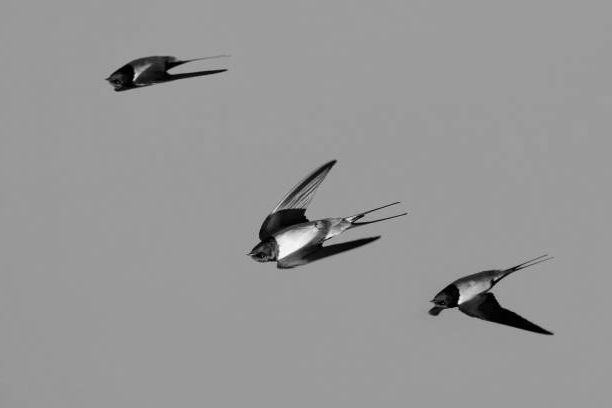Bird: (243, 158, 409, 273), (423, 248, 556, 338), (99, 50, 235, 94)
